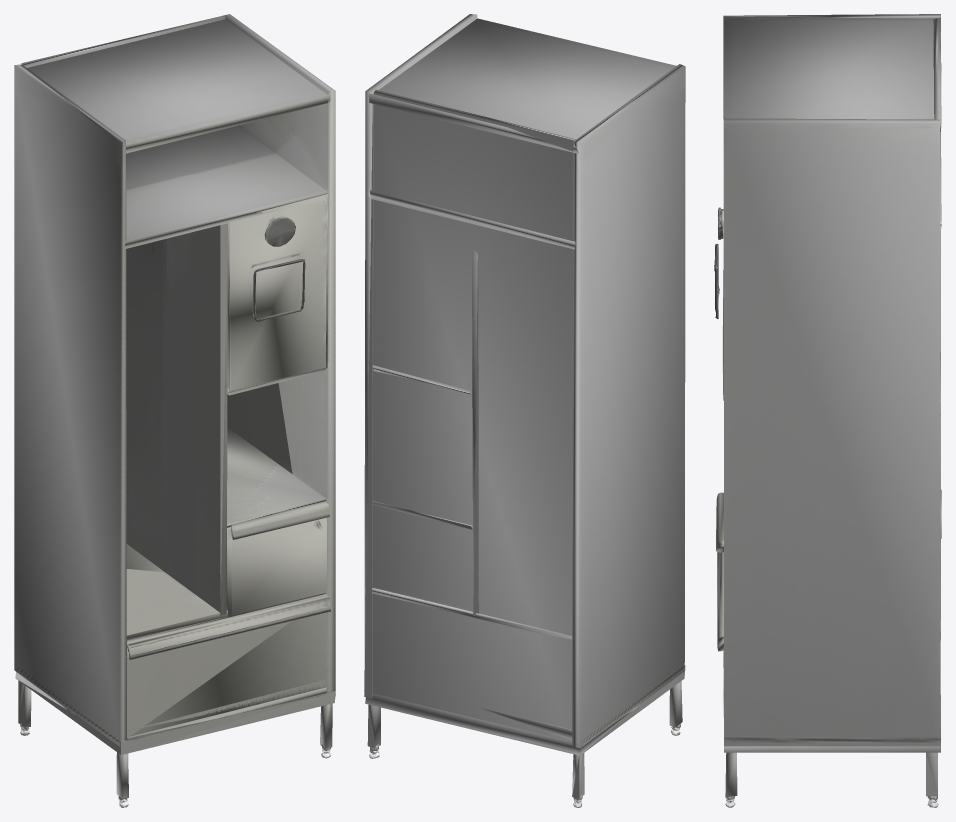
The model's file is Meshy_AI_Tall_steel_storage_ca_0731081450_texture.obj.
3 renders of one model, left to right at view 1: azimuth 30°, elevation 25°; view 2: azimuth 150°, elevation 25°; view 3: azimuth 270°, elevation 25°, orthographic. The views are drawn at different scales.
Visible parts, largest first — view 1: Meshy_AI_Tall_steel_storage_ca_0731081450_texture; view 2: Meshy_AI_Tall_steel_storage_ca_0731081450_texture; view 3: Meshy_AI_Tall_steel_storage_ca_0731081450_texture.
Boxes of the visible parts, x1,y1,x2,y2 form: Meshy_AI_Tall_steel_storage_ca_0731081450_texture: (14,14,335,807); Meshy_AI_Tall_steel_storage_ca_0731081450_texture: (364,14,685,807); Meshy_AI_Tall_steel_storage_ca_0731081450_texture: (714,14,941,807).
Size of the model in its own units: 0.3379 by 1 by 0.2998.
1 material, 1 textured.
